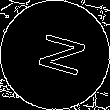N_W: (25, 29, 85, 81)
